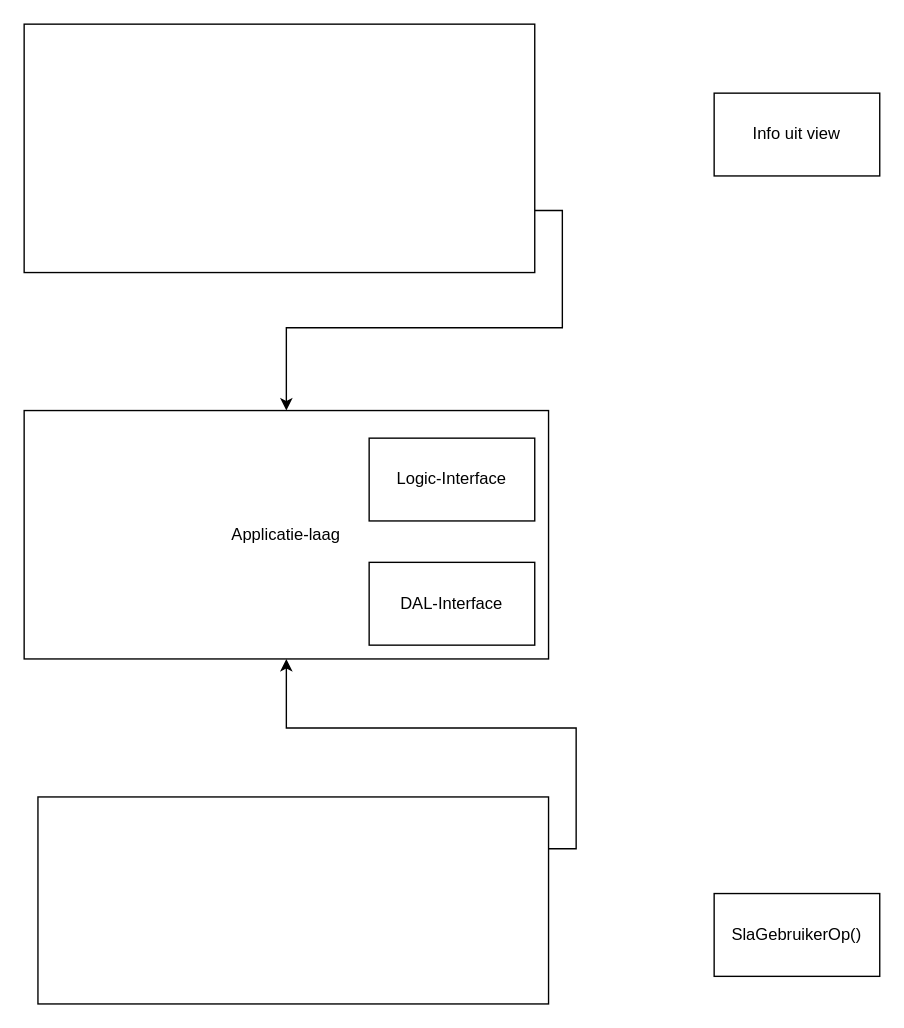
Image size: 904x1028. Some labels were removed from this diagram. The shapes that lost their labels are listed below. From the top down, each one's centre as x and y in pixels, then its label:
At point (279, 148): "Presentatie-laag".
At point (293, 900): "Persistentie-laag".
